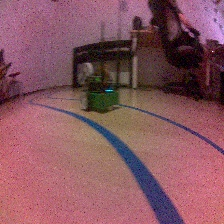rob: (79, 73, 120, 113)
